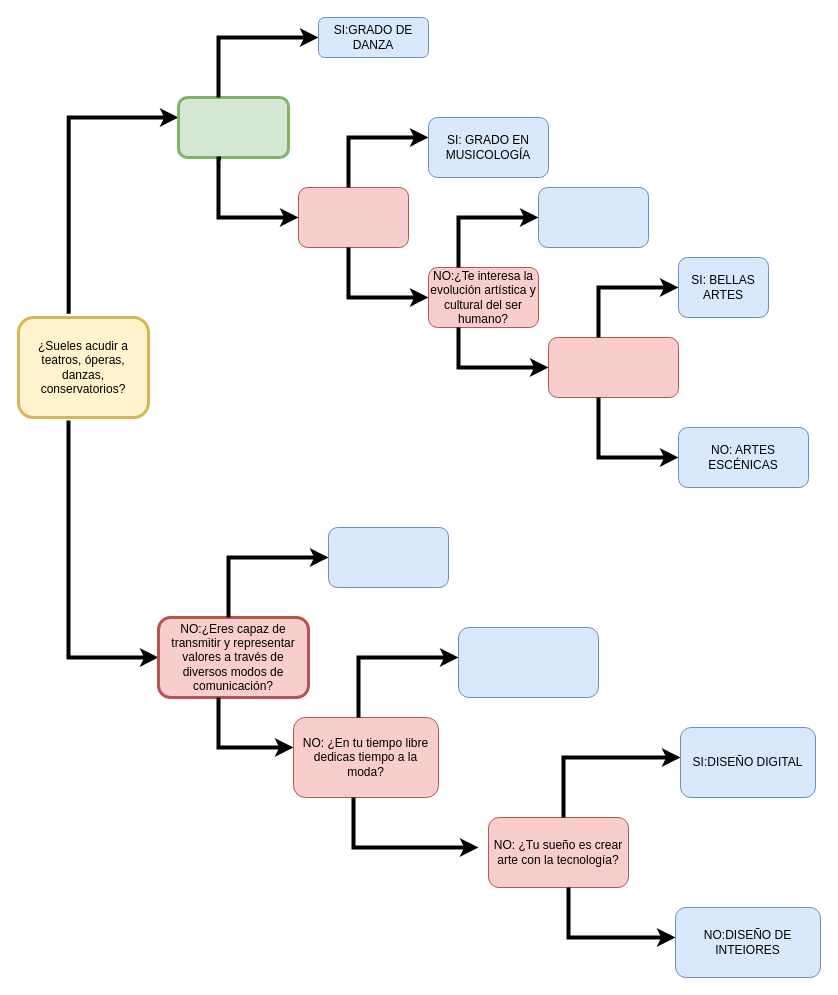
The diagram is 838 pixels wide and 995 high, and some of its shapes have lost their labels. Each missing label, with the centre of its shape:
NO: ¿Tienes la capacidad de la creación y análisis de las artes visuales: (613,367)
NO:¿Disfrutas componiendo obras y tocar instrumentos?: (353,217)
SI: DISEÑO GRÁFICO: (388,557)
SI: HISTORIA DEL ARTE: (593,217)
SI:DISEÑO DE MODA: (528,662)
SI:¿Te apasiona bailar?: (233,127)
